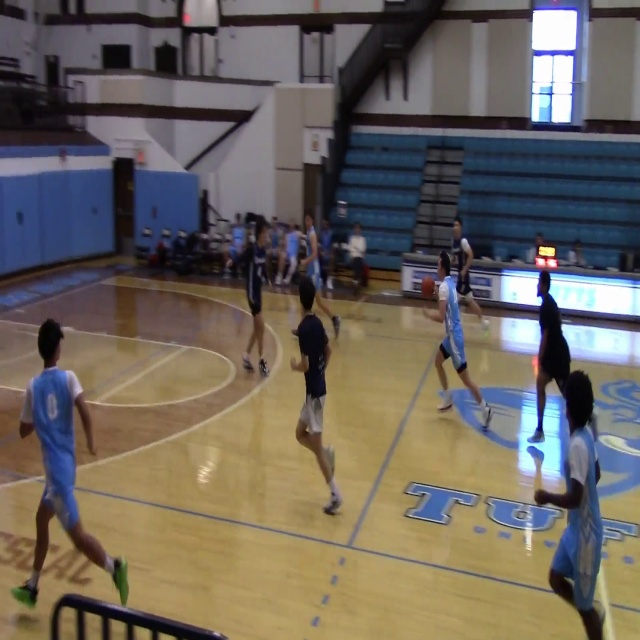Basketball: (298, 275, 316, 307), (421, 276, 434, 297)
